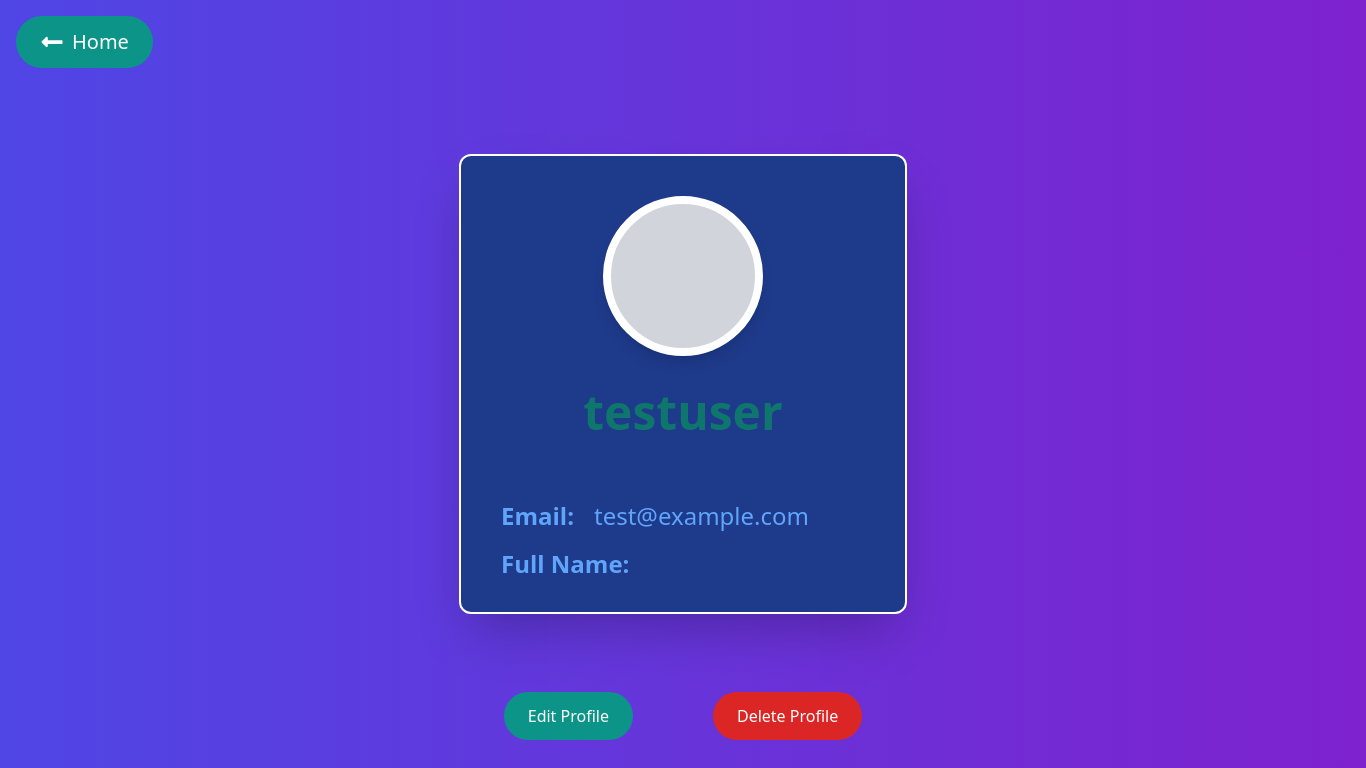
Testing Integration › Edit profile popup close when overlay clicked
The image size is (1366, 768).
Click the button "Edit Profile" at (568, 716), box [504,692,633,740]
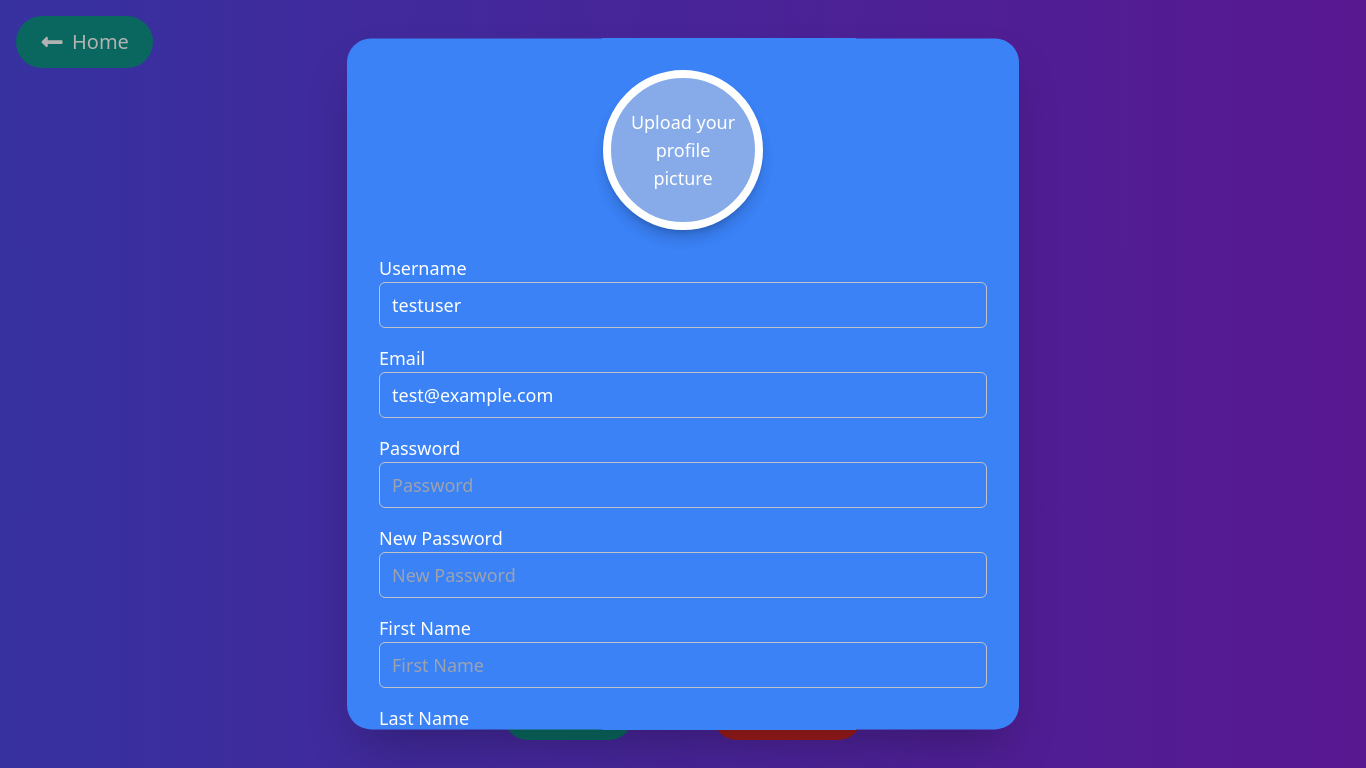
Now the password field labelled "New Password" is shown, box [379,552,987,598]
Click the element with test id "overlay-background" at (82, 384), box [0,0,1365,767]
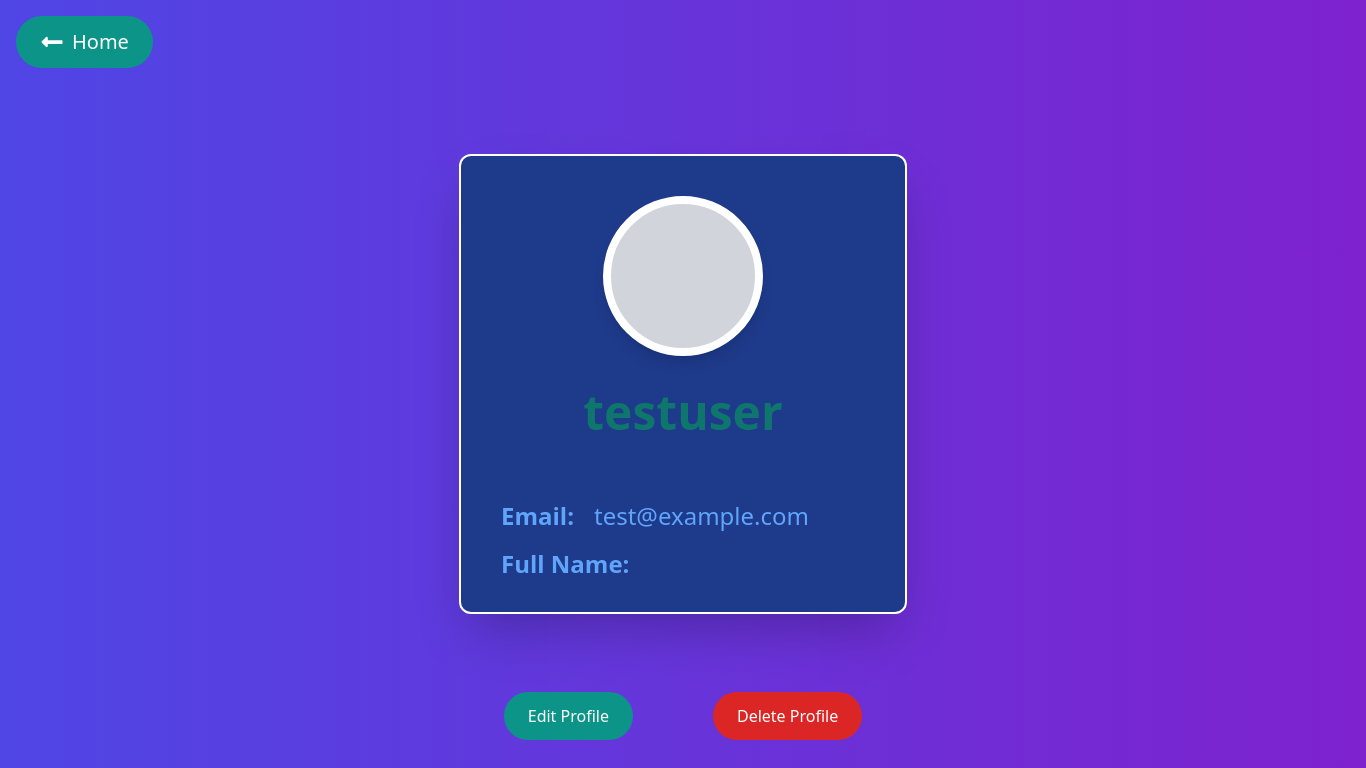
Now the label labelled "New Password" is gone
